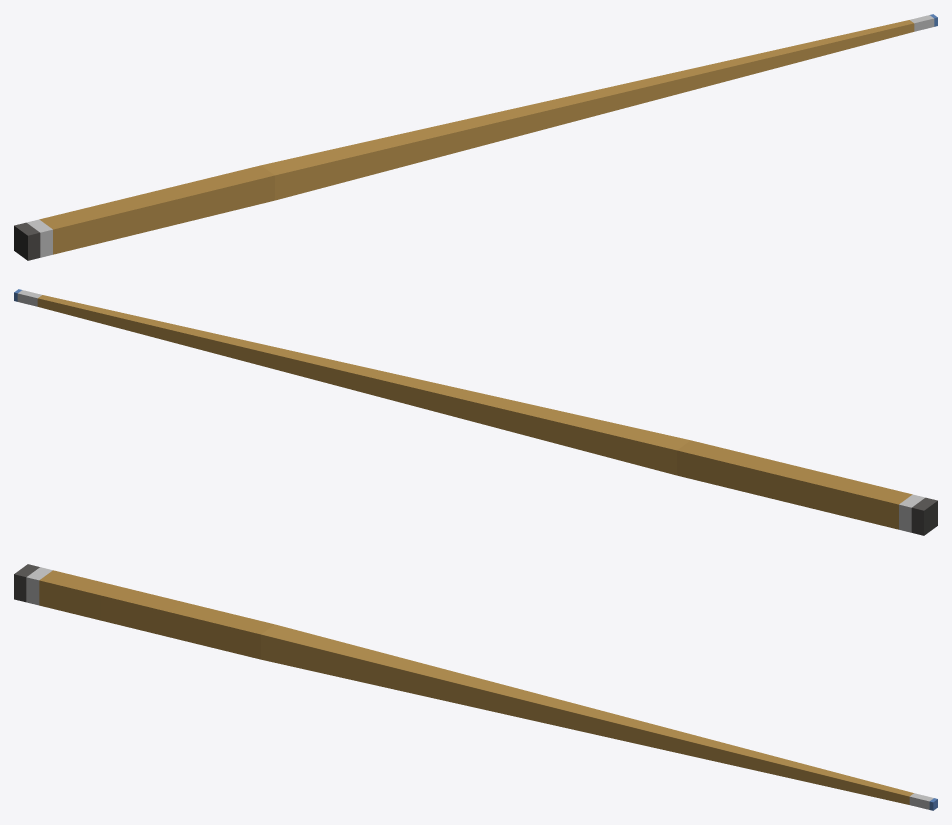
File: AI_Prop_Pool_Cue.fbx
The picture shows the model from 3 angles, top to bottom: view 1: azimuth 30°, elevation 25°; view 2: azimuth 150°, elevation 25°; view 3: azimuth 330°, elevation 25°; orthographic projection.
Parts seen in each view (by area): view 1: AI_Prop_Pool_Cue; view 2: AI_Prop_Pool_Cue; view 3: AI_Prop_Pool_Cue.
Boxes of the visible parts, x1=… form: AI_Prop_Pool_Cue: x1=14, y1=14, x2=937, y2=260; AI_Prop_Pool_Cue: x1=14, y1=289, x2=937, y2=535; AI_Prop_Pool_Cue: x1=14, y1=564, x2=937, y2=810.
Bounding box in the file's own units: 4.37 × 0.1147 × 0.1147.
